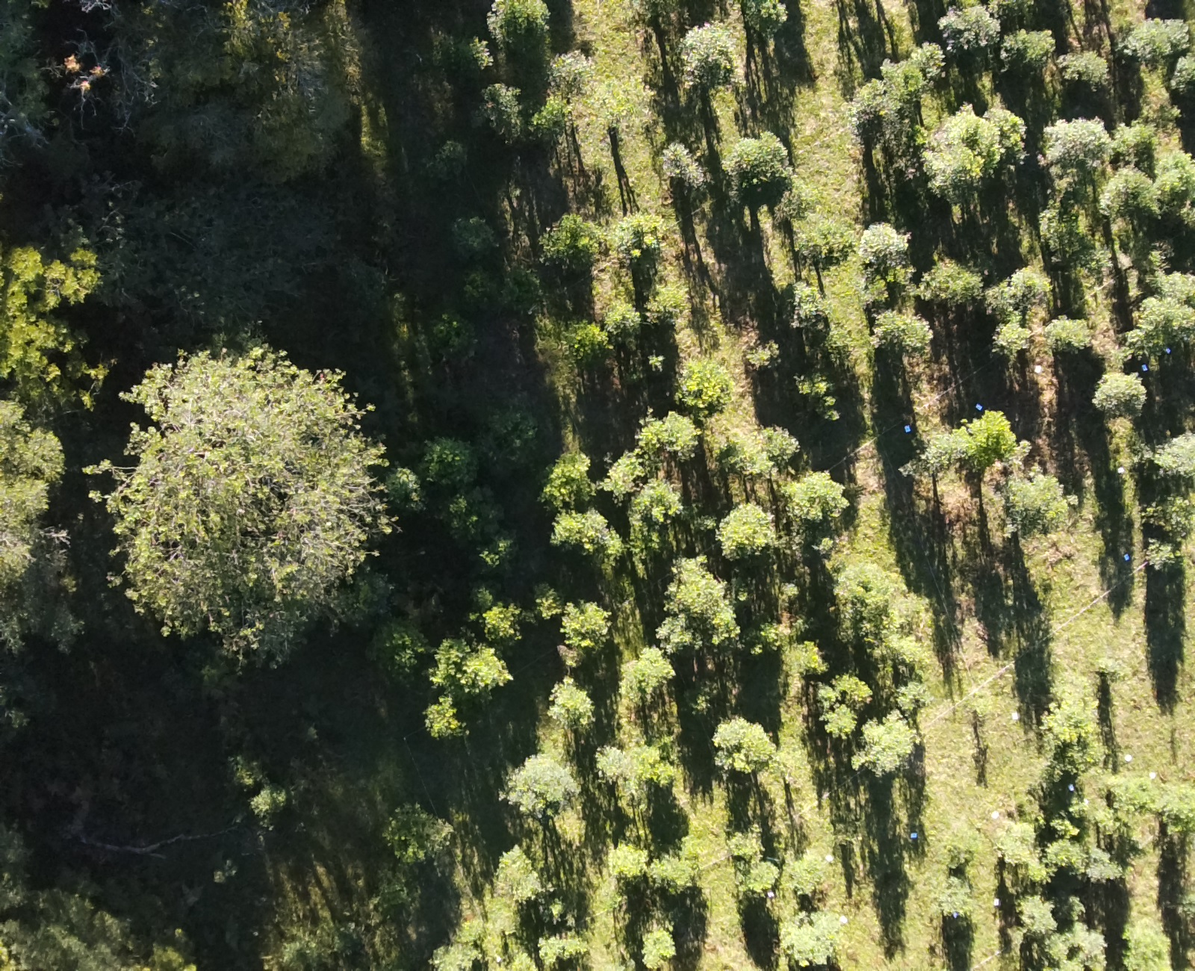erva: (918, 97, 990, 199), (489, 754, 576, 826), (719, 137, 797, 212), (704, 713, 777, 789), (1035, 695, 1103, 773), (998, 469, 1070, 540), (1035, 107, 1111, 173), (382, 797, 453, 863), (1126, 293, 1194, 360), (777, 906, 848, 970), (864, 308, 939, 367), (677, 32, 745, 97), (1100, 164, 1159, 238), (860, 717, 925, 784), (896, 429, 961, 494), (855, 227, 915, 297), (482, 0, 554, 58), (552, 599, 617, 660), (606, 212, 675, 269), (420, 139, 480, 204), (785, 217, 859, 269), (998, 13, 1061, 73), (979, 106, 1038, 167), (829, 556, 894, 611), (956, 409, 1013, 471), (615, 646, 676, 702), (542, 49, 603, 105), (1120, 13, 1185, 64), (780, 282, 837, 340), (708, 503, 775, 552), (1136, 489, 1194, 545), (789, 469, 848, 524), (530, 446, 586, 503), (893, 34, 947, 93), (925, 255, 987, 306), (549, 509, 612, 559), (373, 621, 426, 680), (1087, 367, 1150, 416), (936, 3, 999, 52), (1052, 41, 1110, 94), (721, 432, 775, 488), (474, 83, 526, 141), (591, 739, 640, 800), (489, 851, 542, 907), (629, 483, 690, 530), (779, 642, 835, 693), (819, 668, 883, 712), (1108, 115, 1161, 168), (777, 840, 830, 892), (542, 677, 586, 739), (426, 320, 478, 372), (541, 220, 597, 268), (1146, 258, 1194, 314), (459, 646, 510, 698), (673, 360, 726, 409), (598, 446, 638, 509), (932, 872, 981, 923), (530, 927, 588, 970), (649, 848, 705, 892), (1146, 435, 1194, 483), (660, 413, 701, 469), (1044, 308, 1087, 359), (994, 818, 1038, 867), (934, 814, 978, 862), (1071, 789, 1116, 835), (422, 700, 469, 744), (633, 922, 675, 970), (875, 632, 934, 666), (1041, 834, 1081, 884), (429, 630, 465, 685), (455, 214, 500, 258), (599, 302, 641, 349), (645, 282, 689, 326), (736, 860, 783, 901), (744, 0, 795, 37), (659, 145, 699, 192), (1107, 768, 1152, 809), (606, 846, 648, 889), (1083, 846, 1122, 891), (890, 673, 936, 710), (1096, 640, 1133, 685), (703, 411, 740, 456), (479, 607, 521, 646), (818, 705, 861, 742), (1163, 51, 1194, 102), (982, 276, 1019, 317), (994, 316, 1030, 358), (432, 935, 475, 970), (1017, 890, 1049, 936), (1014, 269, 1050, 309), (1034, 929, 1076, 962), (724, 821, 760, 857), (527, 587, 562, 624), (643, 742, 671, 787), (893, 592, 940, 618), (769, 421, 803, 456), (636, 415, 664, 456), (1061, 927, 1106, 952), (1143, 534, 1179, 565), (462, 587, 504, 609), (454, 910, 482, 939)
